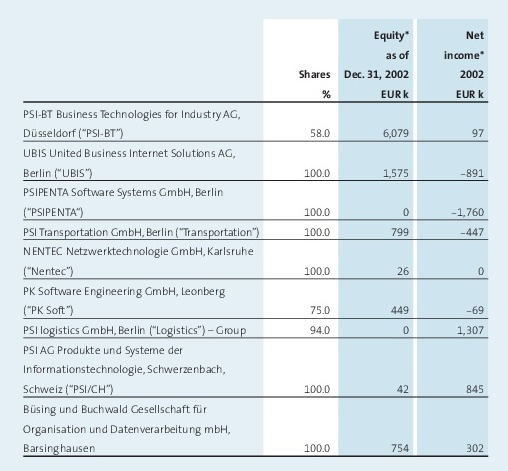table: (0, 0, 508, 471)
